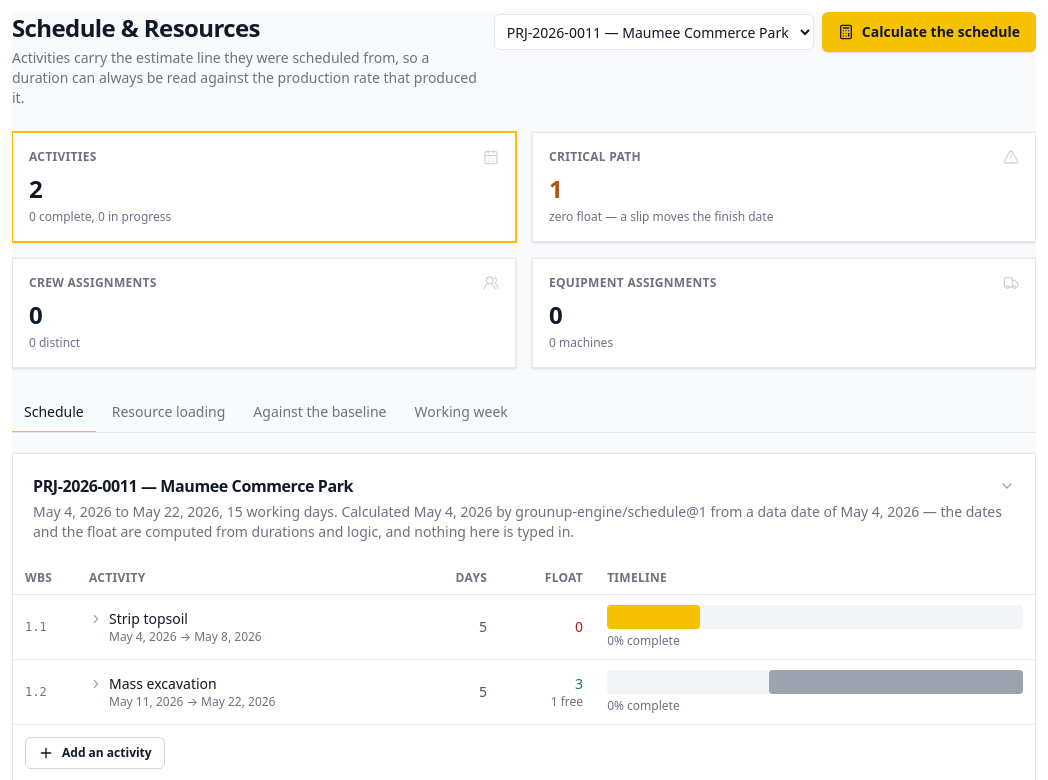
it: a schedule that has been calculated › puts every activity back
Expected: the button "Mass excavation" is shown, x1=89 y1=674 x2=217 y2=694
What coordinates should you click on to do the following:
click the button with aria-label "only the activities on the critical path"
I would click on:
 (595, 156)
Its box is x1=532 y1=132 x2=1036 y2=242.
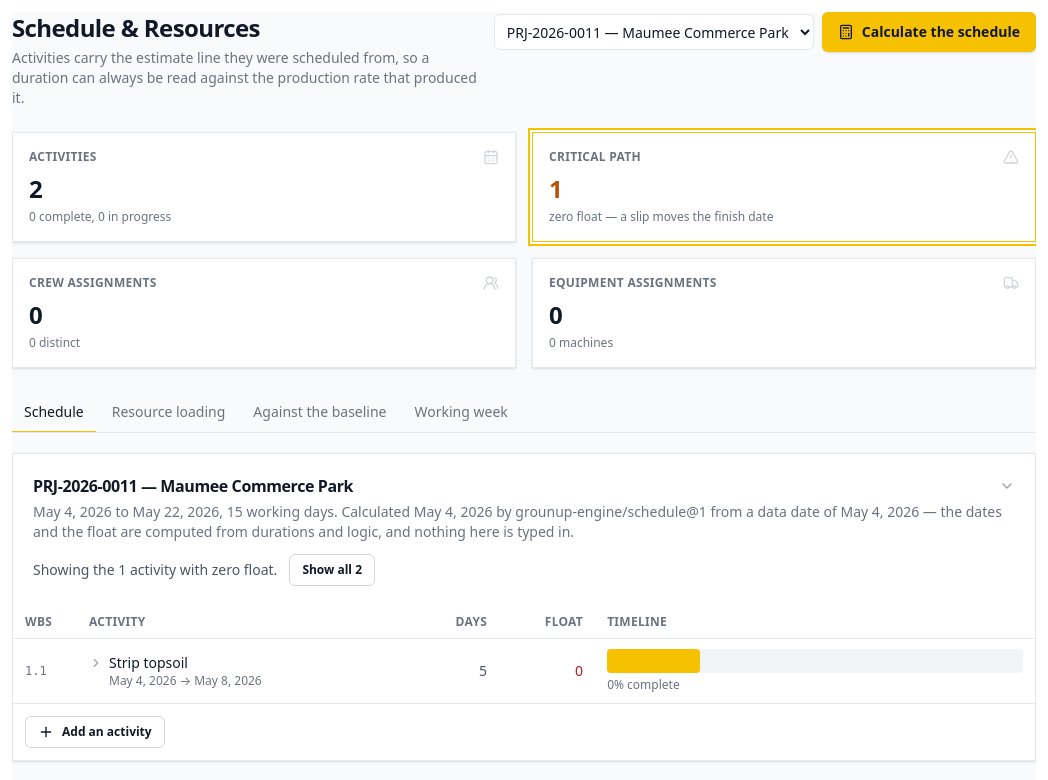
Result: the button "Mass excavation" is gone
What coordinates should you click on to do the following:
click the button with aria-label "only the activities on the critical path"
I would click on:
 (595, 156)
Its box is x1=532 y1=132 x2=1036 y2=242.
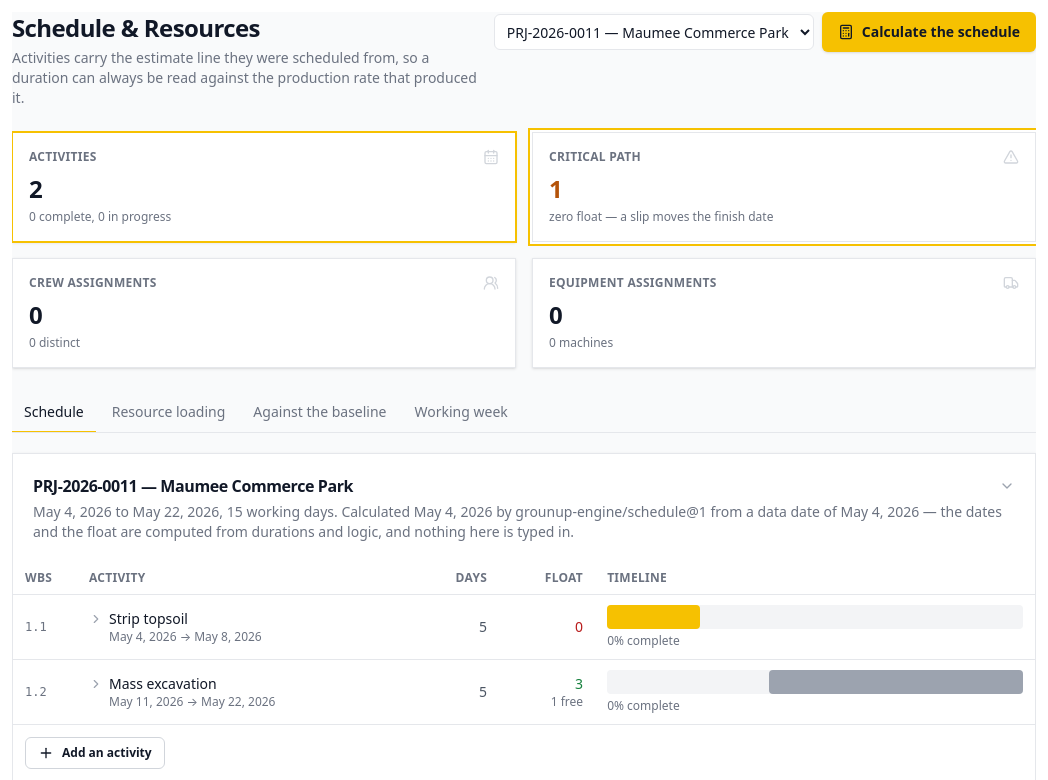
Result: the button "Mass excavation" is shown at x1=89 y1=674 x2=217 y2=694
